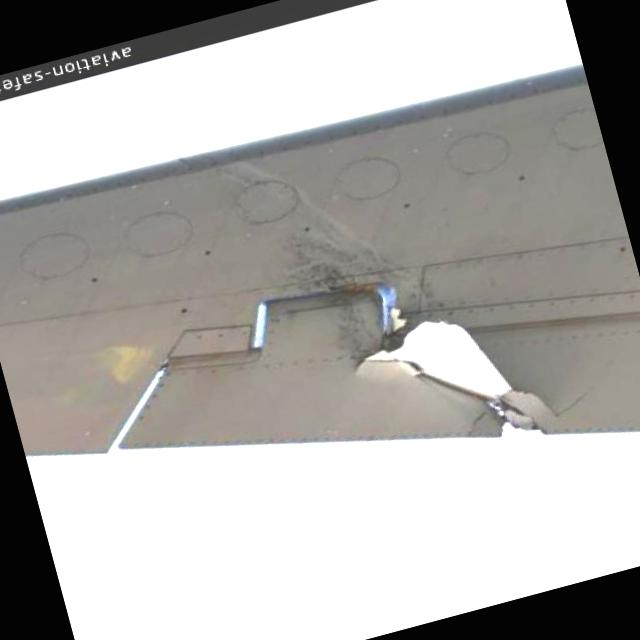crack: (343, 291, 565, 484)
